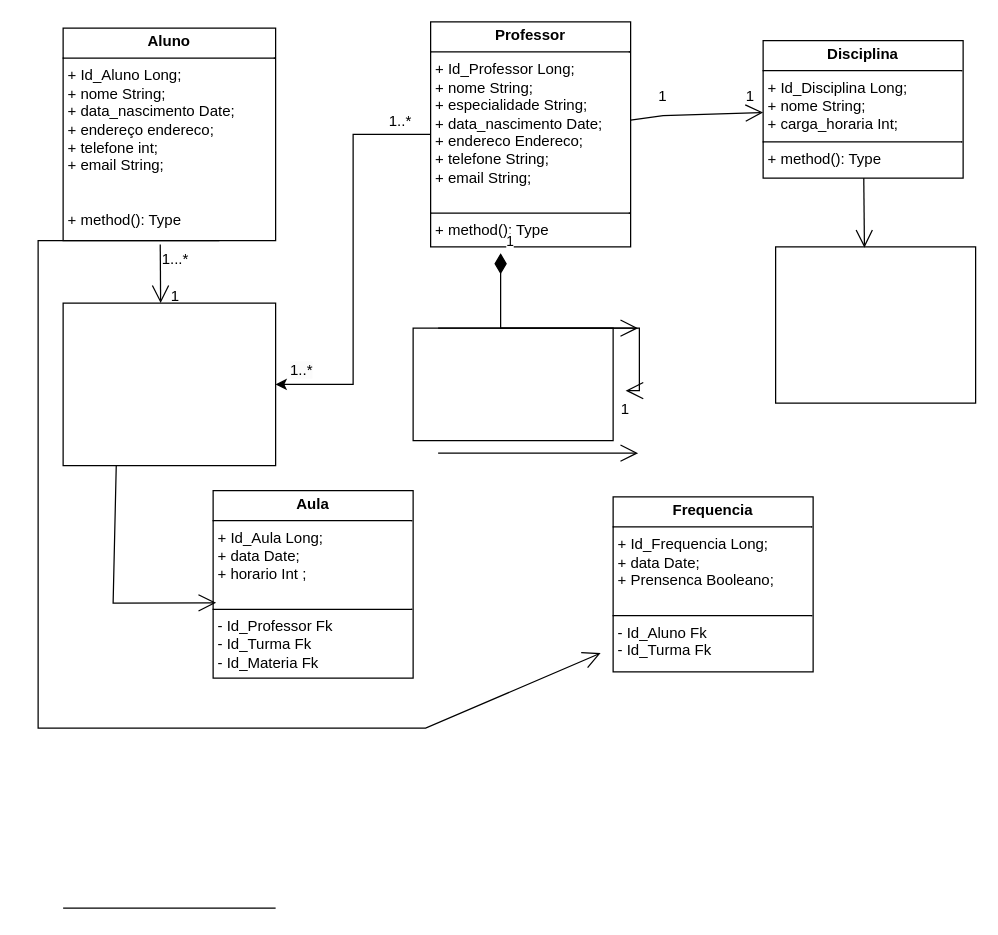
Some shapes in this 998 by 935 pixel diagram are drawn without their labels. Each missing label, with the box of its shape:
Materia + Id_Materia Long; + nome String; - Id_disciplina Fk: (412, 327, 613, 441)
Nota + Id_Nota Long; + nota String; + data Date; - Id_Aluno Fk - Id_Materia Fk: (774, 246, 976, 403)
Turma + Id_Turma Long; + ano int; + semestre ; + turno; + method(): Type: (62, 302, 276, 466)
